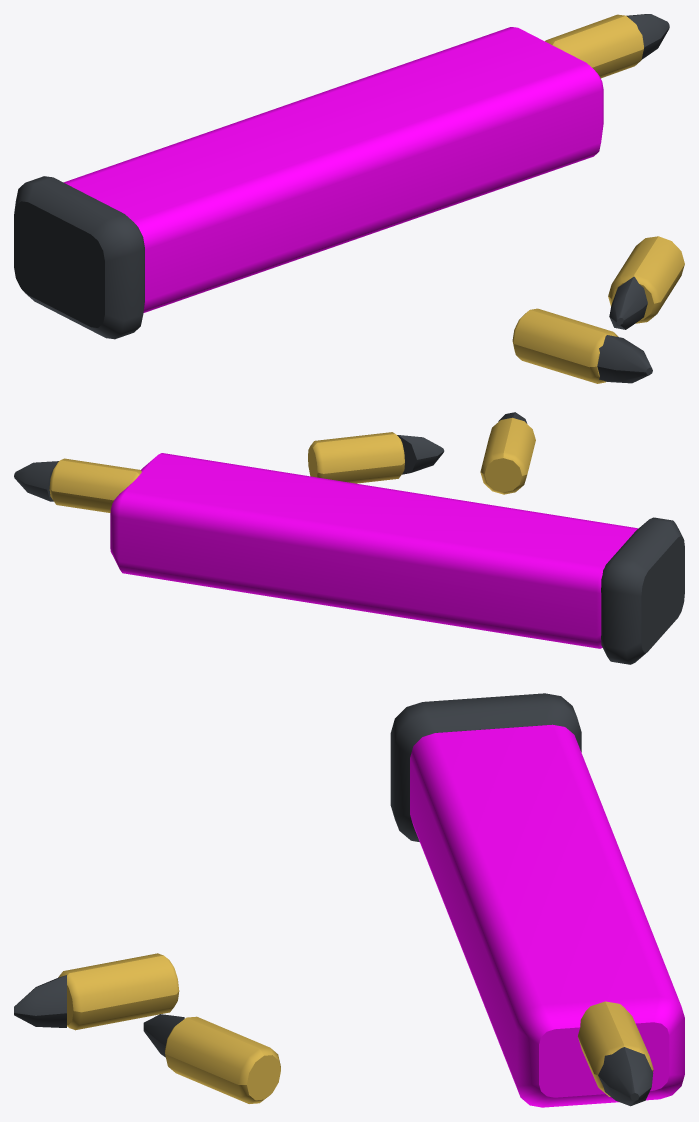
Rendered from objet_chargeur_pistolet.glb.
3 renders of one model, top to bottom at view 1: azimuth 30°, elevation 25°; view 2: azimuth 150°, elevation 25°; view 3: azimuth 270°, elevation 25°, orthographic. The views are drawn at different scales.
Visible parts, largest first — view 1: chargeur_teinte.006, chargeur_teinte_sombre.006, chargeur_laiton.006; view 2: chargeur_teinte.006, chargeur_teinte_sombre.006, chargeur_laiton.006; view 3: chargeur_teinte.006, chargeur_laiton.006, chargeur_teinte_sombre.006.
Boxes of the visible parts, bbox=[...] form: chargeur_teinte.006: bbox=[63, 27, 603, 313]; chargeur_teinte_sombre.006: bbox=[14, 14, 669, 383]; chargeur_laiton.006: bbox=[512, 14, 684, 383]; chargeur_teinte.006: bbox=[110, 453, 638, 648]; chargeur_teinte_sombre.006: bbox=[14, 412, 684, 664]; chargeur_laiton.006: bbox=[49, 417, 535, 512]; chargeur_teinte.006: bbox=[410, 724, 684, 1107]; chargeur_laiton.006: bbox=[58, 953, 653, 1103]; chargeur_teinte_sombre.006: bbox=[14, 693, 653, 1106].
Size of the model in its own units: 0.2327 by 0.0415 by 0.1775.
